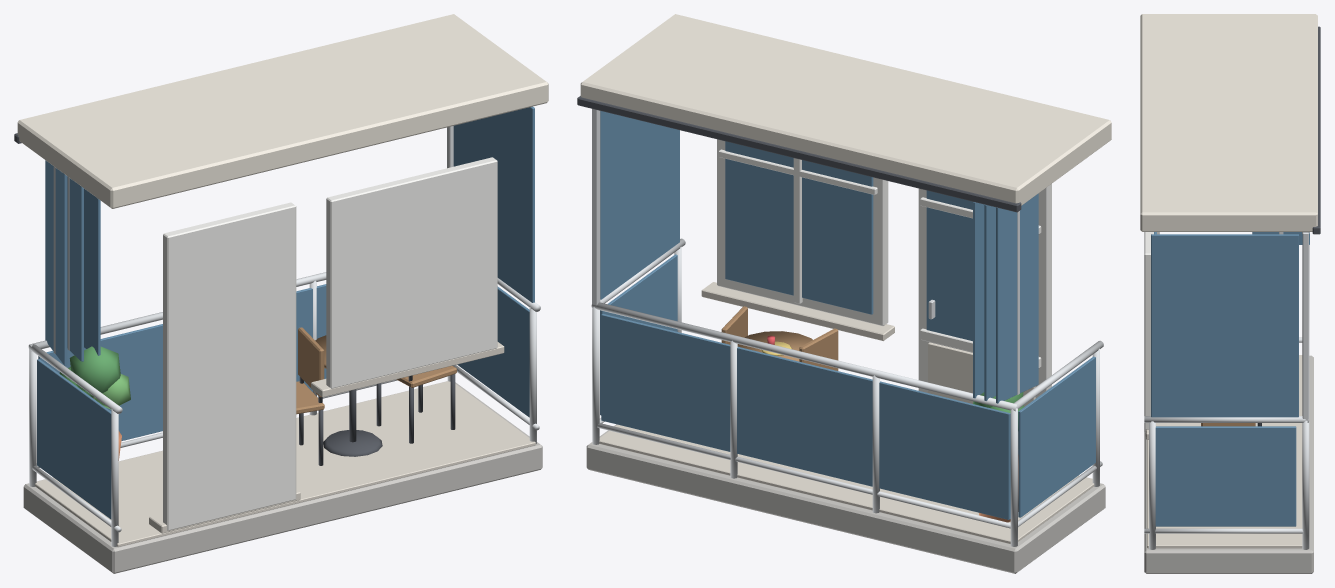
Rendered from Sultanbeyli_Balcony_CamBalkon.fbx.
The picture shows the model from 3 angles, left to right: view 1: azimuth 30°, elevation 25°; view 2: azimuth 150°, elevation 25°; view 3: azimuth 270°, elevation 25°; orthographic projection. The views are drawn at different scales.
Parts seen in each view (by area): view 1: Sultanbeyli_Balcony_CamBalkon; view 2: Sultanbeyli_Balcony_CamBalkon; view 3: Sultanbeyli_Balcony_CamBalkon.
Boxes of the visible parts, bbox=[...] form: Sultanbeyli_Balcony_CamBalkon: bbox=[14, 14, 548, 573]; Sultanbeyli_Balcony_CamBalkon: bbox=[577, 14, 1111, 573]; Sultanbeyli_Balcony_CamBalkon: bbox=[1140, 14, 1320, 573].
Size of the model in its own units: 3.48 by 2.93 by 1.32.
